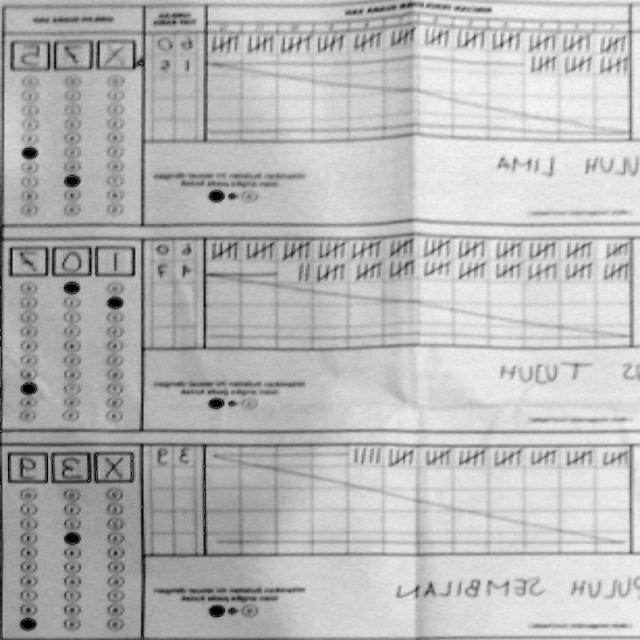Suara: (7, 240, 142, 278), (7, 38, 142, 73), (8, 447, 142, 479)
